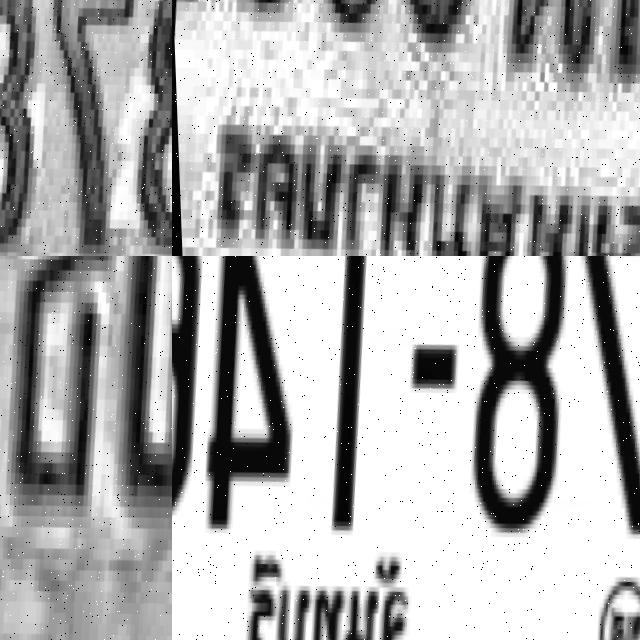license-plate: (172, 256, 640, 640), (172, 0, 640, 256), (0, 256, 172, 640), (0, 0, 172, 256)
